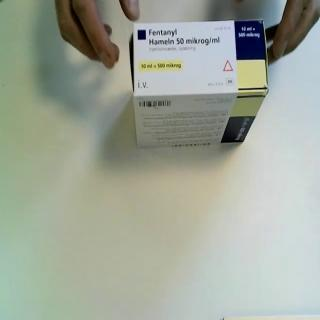fentanyl50ug_ml: (127, 17, 271, 152)
